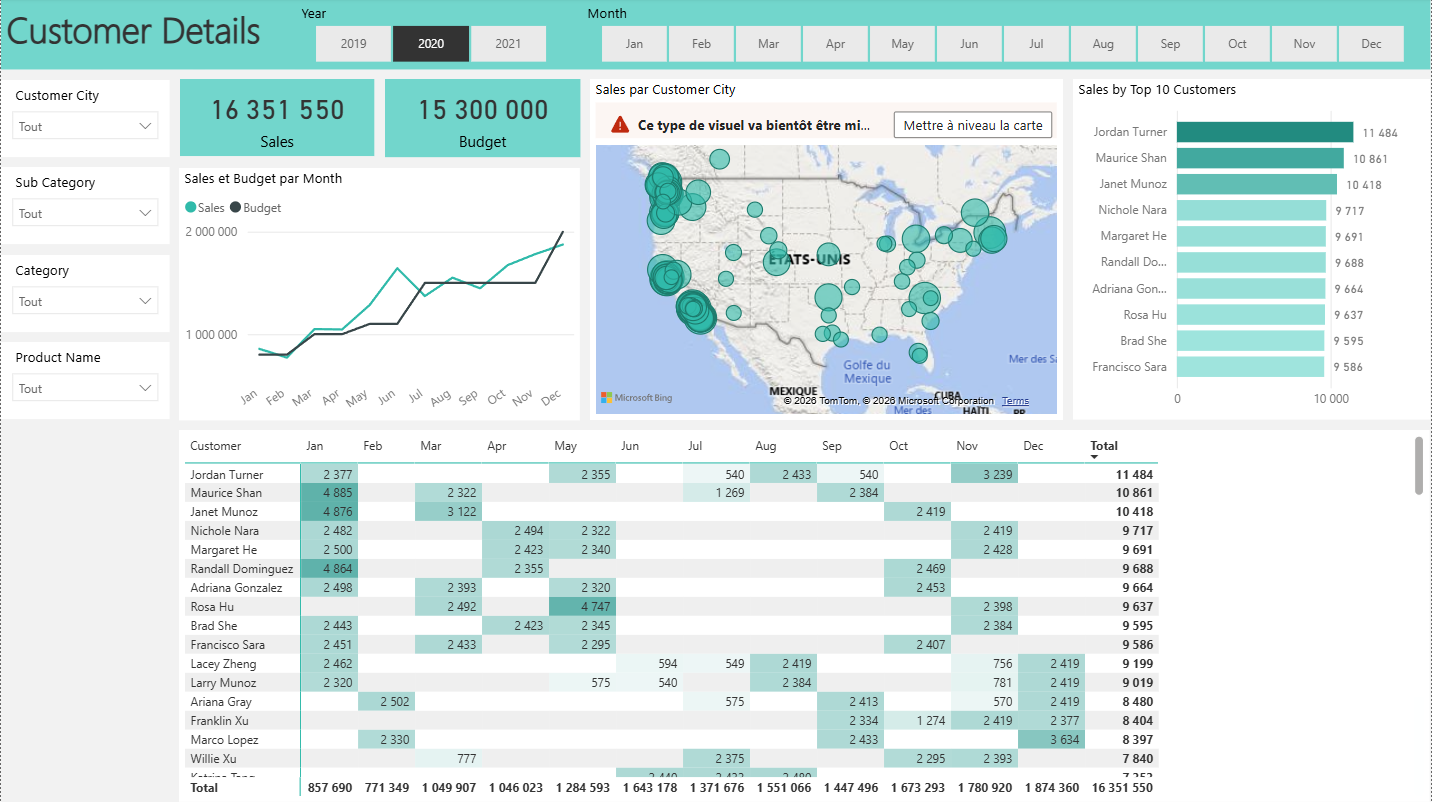

Layout of this report page (visuals, bound fields, positions):
{"tool":"powerbi","page":{"name":"Customer Details","canvas":[1280,720],"ordinal":1},"visuals":[{"type":"textbox","box":[0,0,1280,64],"z":0},{"type":"slicer","fields":{"Values":["DIM_Calendar.Year"]},"box":[256,0,256,64],"z":1000},{"type":"slicer","fields":{"Values":["DIM_Calendar.MonthShort"]},"box":[512,0,768,64],"z":2000},{"type":"slicer","fields":{"Values":["DIM_Customers.Customer City"]},"box":[0,73,150.5,69.3],"z":3000},{"type":"slicer","fields":{"Values":["DIM_Products.Product Category"]},"box":[0,229.9,150.5,69.3],"z":4000},{"type":"slicer","fields":{"Values":["DIM_Products.Product Name"]},"box":[0,308.4,150.5,69.3],"z":5000},{"type":"slicer","fields":{"Values":["DIM_Products.Sub Category"]},"box":[0,151.4,150.5,69.3],"z":6000},{"type":"lineChart","fields":{"Category":["DIM_Calendar.MonthShort"],"Y":["Analysis Metrics.Sales","Analysis Metrics.Budget"]},"box":[159.8,151.8,358.7,226.4],"z":7000},{"type":"card","fields":{"Values":["Analysis Metrics.Sales"]},"box":[160.7,72.8,174,69.2],"z":8000},{"type":"map","fields":{"Category":["DIM_Customers.Customer City"],"Size":["Analysis Metrics.Sales"]},"box":[527.3,72.8,423.5,304.5],"z":9000},{"type":"card","fields":{"Values":["Analysis Metrics.Budget"]},"box":[343.6,72.8,174.9,70.1],"z":10000},{"type":"pivotTable","fields":{"Rows":["DIM_Customers.Full Name"],"Columns":["DIM_Calendar.MonthShort"],"Values":["Analysis Metrics.Sales"]},"box":[159.8,387.1,1120.4,332.9],"z":11000},{"type":"barChart","title":"Sales by Top 10 Customers","fields":{"Category":["DIM_Customers.Full Name"],"Y":["Analysis Metrics.Sales"]},"box":[959.7,72.8,320.5,304.5],"z":12000}]}

Visuals, with their boxes in screenshot pixels (x1, y1, x2, y2), scaled from the page's 1280x720 canvas onto the 1432x802 screenshot:
textbox: <bbox>0, 0, 1431, 71</bbox>
slicer - DIM_Calendar.Year: <bbox>286, 0, 573, 71</bbox>
slicer - DIM_Calendar.MonthShort: <bbox>573, 0, 1431, 71</bbox>
slicer - DIM_Customers.Customer City: <bbox>0, 81, 168, 159</bbox>
slicer - DIM_Products.Product Category: <bbox>0, 256, 168, 333</bbox>
slicer - DIM_Products.Product Name: <bbox>0, 344, 168, 421</bbox>
slicer - DIM_Products.Sub Category: <bbox>0, 169, 168, 246</bbox>
lineChart - DIM_Calendar.MonthShort x Analysis Metrics.Sales: <bbox>179, 169, 580, 421</bbox>
card - Analysis Metrics.Sales: <bbox>180, 81, 374, 158</bbox>
map - DIM_Customers.Customer City x Analysis Metrics.Sales: <bbox>590, 81, 1064, 420</bbox>
card - Analysis Metrics.Budget: <bbox>384, 81, 580, 159</bbox>
pivotTable - DIM_Customers.Full Name x DIM_Calendar.MonthShort: <bbox>179, 431, 1431, 801</bbox>
"Sales by Top 10 Customers" barChart: <bbox>1074, 81, 1431, 420</bbox>
